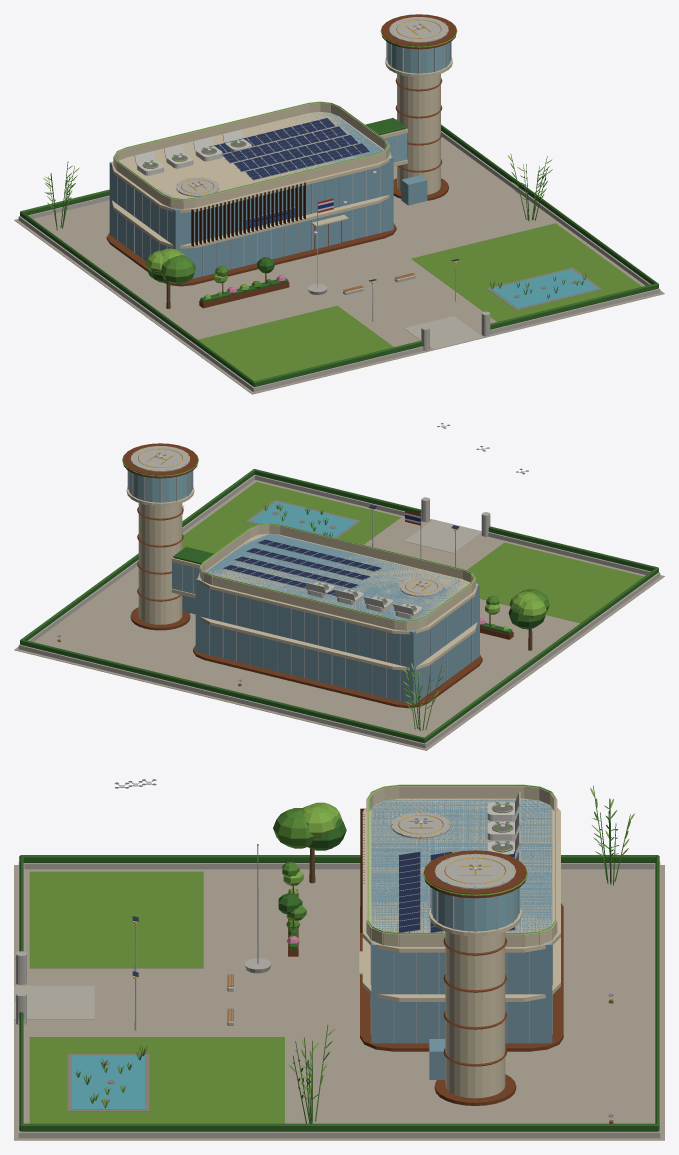
Rendered from police.glb.
The picture shows the model from 3 angles, top to bottom: view 1: azimuth 30°, elevation 25°; view 2: azimuth 150°, elevation 25°; view 3: azimuth 270°, elevation 25°; orthographic projection. The views are drawn at different scales.
Visible parts, largest first — view 1: body, windows; view 2: body, windows; view 3: body, windows.
Part boxes in pixels (x1=…): body: x1=14, y1=14, x2=664, y2=394; windows: x1=114, y1=17, x2=489, y2=333; body: x1=14, y1=423, x2=664, y2=750; windows: x1=122, y1=446, x2=475, y2=621; body: x1=14, y1=779, x2=664, y2=1140; windows: x1=15, y1=784, x2=555, y2=1000.
Size of the model in its own units: 47.9 by 18.26 by 47.9.
